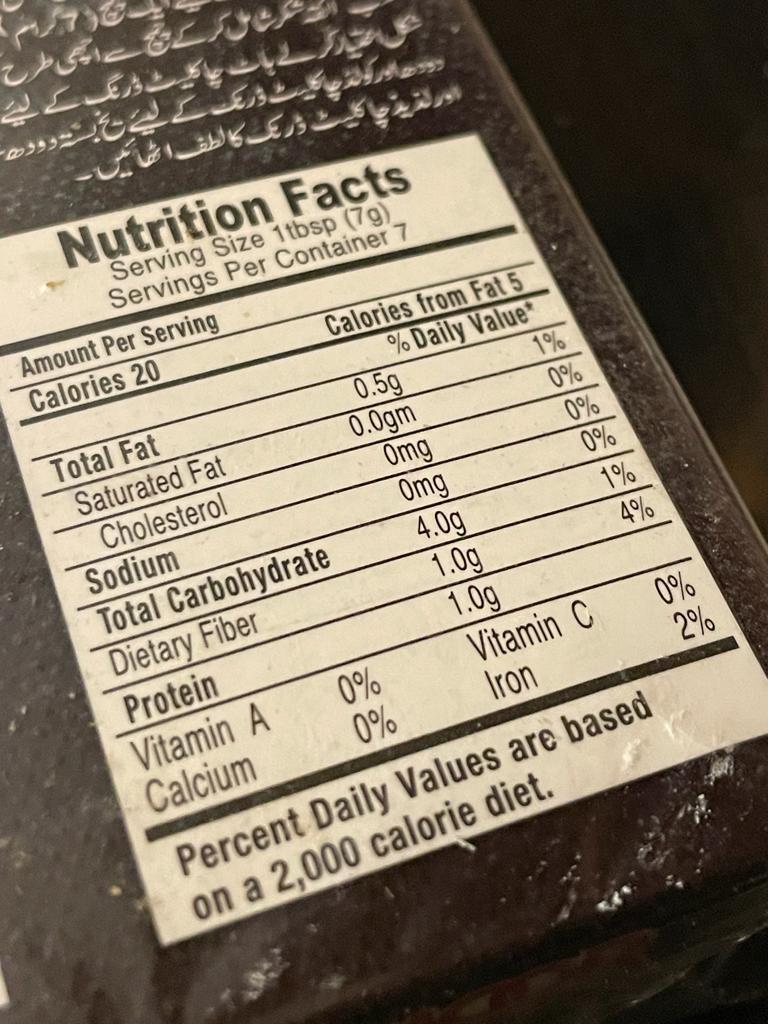table: (1, 89, 748, 982)
